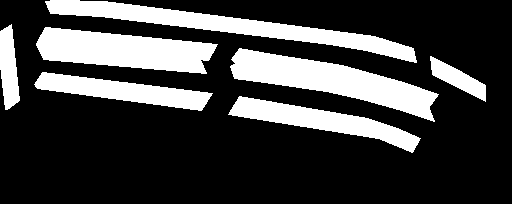parkingspot: (45, 0, 416, 62), (231, 48, 438, 108), (230, 63, 434, 121), (228, 96, 420, 152), (34, 72, 212, 110), (36, 27, 217, 60), (36, 44, 206, 73), (430, 56, 485, 101), (0, 24, 19, 109)
